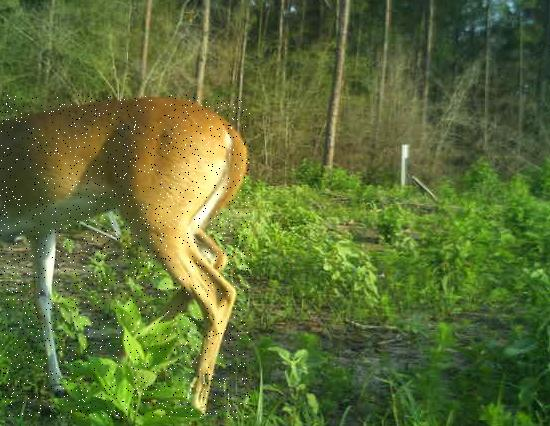Deer: (0, 95, 250, 418)
